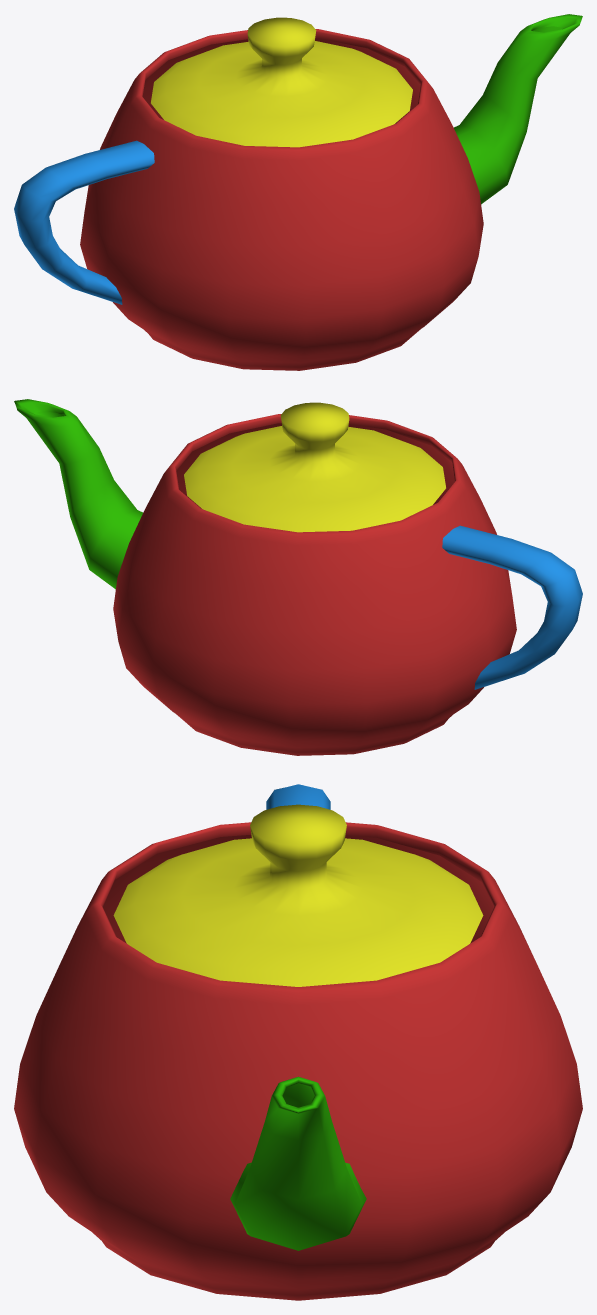
The model's file is Teapot-SubMeshes.FBX.
The picture shows the model from 3 angles, top to bottom: view 1: azimuth 30°, elevation 25°; view 2: azimuth 150°, elevation 25°; view 3: azimuth 270°, elevation 25°; orthographic projection. The views are drawn at different scales.
Parts seen in each view (by area): view 1: Teapot001; view 2: Teapot001; view 3: Teapot001.
Boxes of the visible parts, left/top/right/bottom form: Teapot001: left=14, top=14, right=582, bottom=370; Teapot001: left=14, top=399, right=582, bottom=755; Teapot001: left=14, top=784, right=582, bottom=1300.
Bounding box in the file's own units: 2.76 × 1.72 × 1.35.
